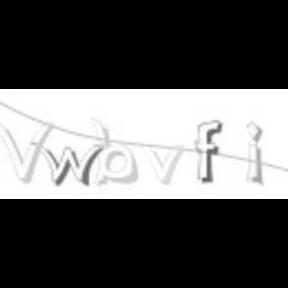V: (0, 120, 54, 182)
b: (91, 115, 140, 188)
f: (193, 119, 223, 185)
i: (245, 119, 267, 187)
v: (141, 141, 185, 187)
w: (31, 140, 101, 186)
